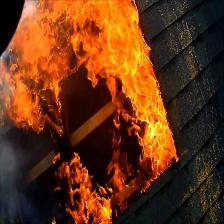fire: (6, 1, 183, 223)
